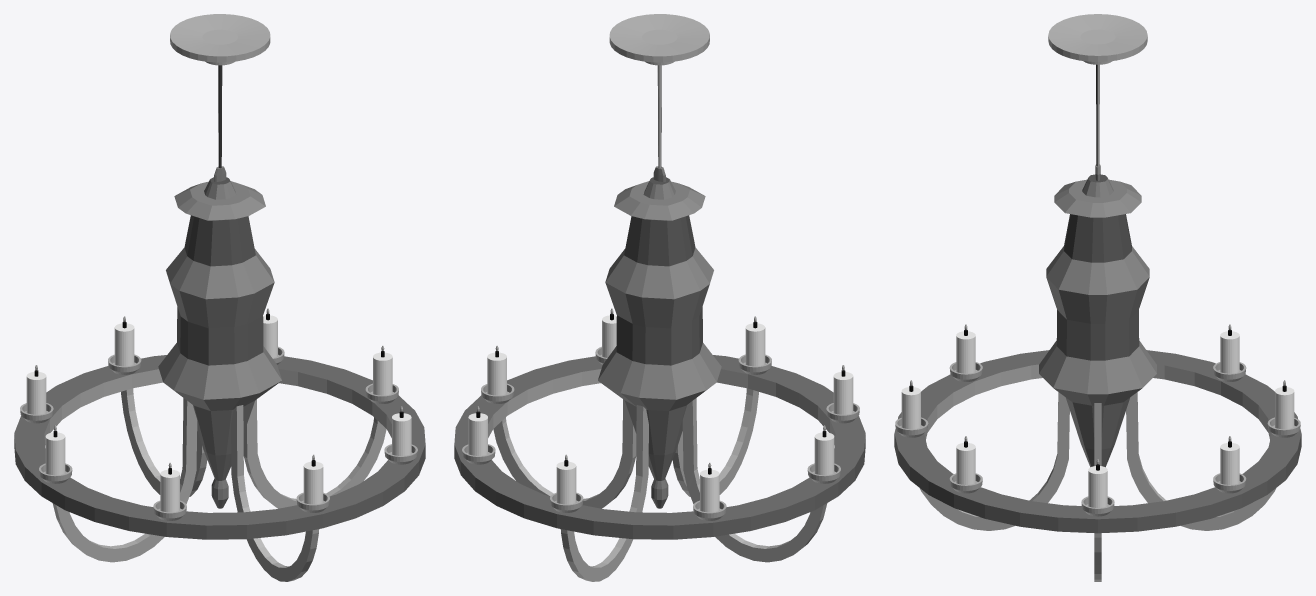
Rendered from ChandelierModel.fbx.
The picture shows the model from 3 angles, left to right: view 1: azimuth 30°, elevation 25°; view 2: azimuth 150°, elevation 25°; view 3: azimuth 270°, elevation 25°; orthographic projection.
Parts seen in each view (by area): view 1: ChandelierModel; view 2: ChandelierModel; view 3: ChandelierModel.
Boxes of the visible parts, left/top/right/bottom form: ChandelierModel: left=14, top=14, right=425, bottom=581; ChandelierModel: left=454, top=14, right=865, bottom=581; ChandelierModel: left=894, top=14, right=1301, bottom=581.
Size of the model in its own units: 97.09 by 130 by 96.97.
